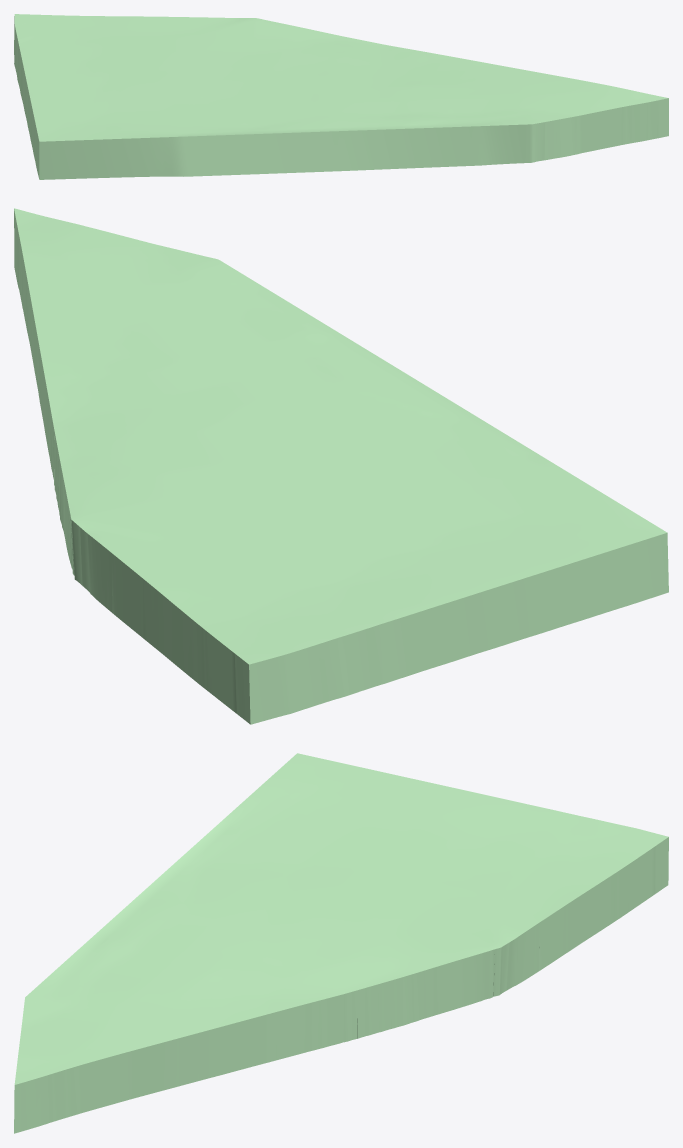
File: terreno.glb
The picture shows the model from 3 angles, top to bottom: view 1: azimuth 30°, elevation 25°; view 2: azimuth 150°, elevation 25°; view 3: azimuth 270°, elevation 25°; orthographic projection. The views are drawn at different scales.
Visible parts, largest first — view 1: Group1; view 2: Group1; view 3: Group1.
Part boxes in pixels (x1,y1,x2,y2): Group1: [14, 14, 668, 179]; Group1: [14, 208, 668, 724]; Group1: [14, 753, 668, 1133].
Size of the model in its own units: 144 by 11.92 by 122.
